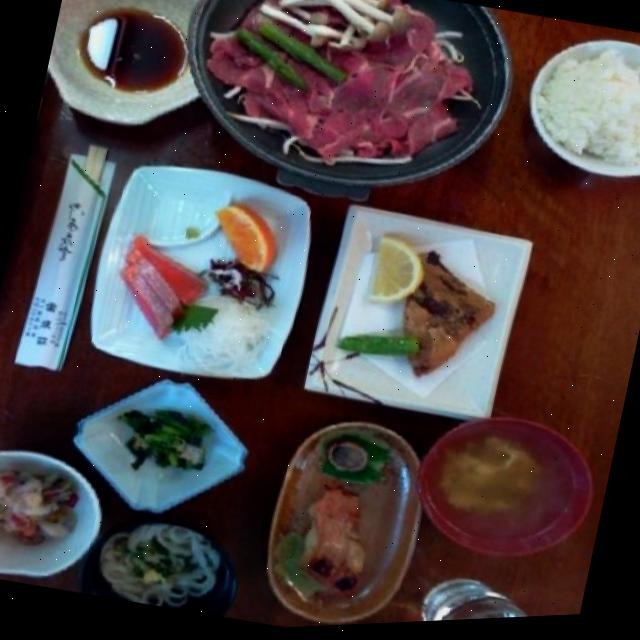刺身生食: (88, 212, 217, 371)
汤锅炖物: (406, 402, 604, 588)
米饭主食: (504, 20, 640, 204)
面条主食: (74, 497, 248, 625)
